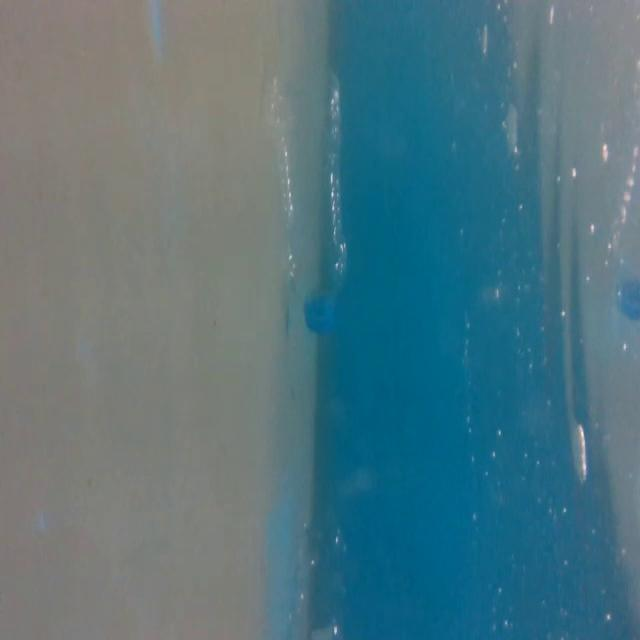plastic bottle: (260, 54, 357, 340)
